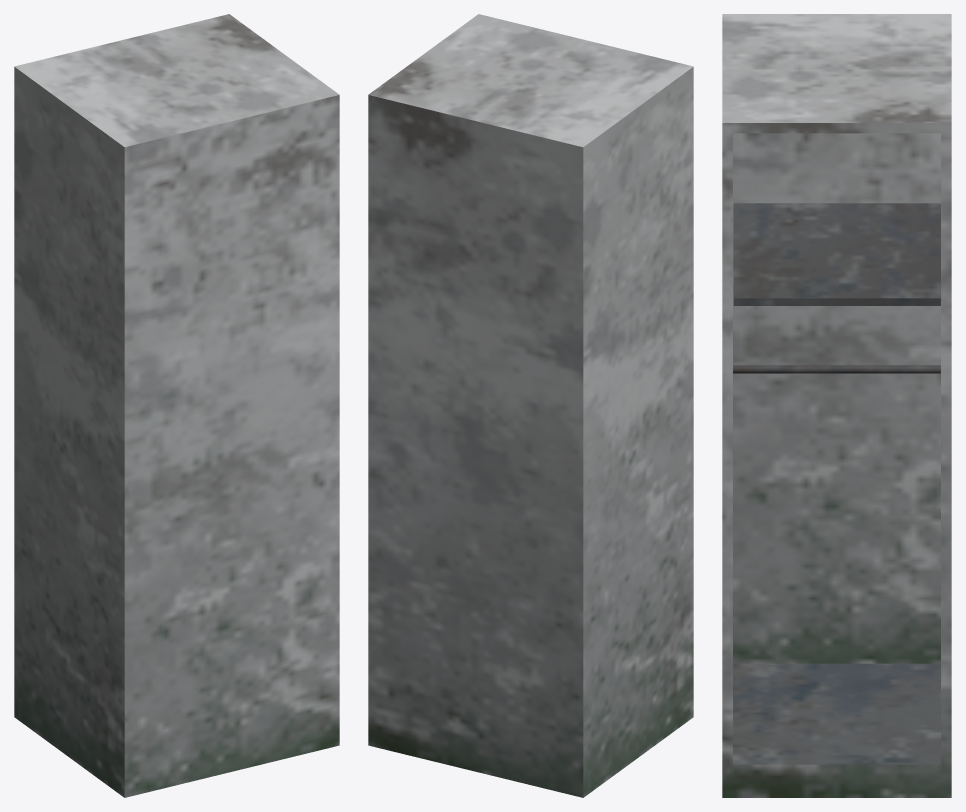
Rendered from Cupboard_SM.fbx.
3 views of the same model, side by side, from view 1: azimuth 30°, elevation 25°; view 2: azimuth 150°, elevation 25°; view 3: azimuth 270°, elevation 25° (orthographic). The views are drawn at different scales.
Visible parts, largest first — view 1: InsideCupbiard; view 2: InsideCupbiard; view 3: InsideCupbiard.
Boxes of the visible parts, box(x1,y1,x2,y2) form: InsideCupbiard: box(14, 14, 339, 797); InsideCupbiard: box(368, 14, 693, 797); InsideCupbiard: box(722, 14, 951, 797).
Bounding box in the file's own units: 82.4 × 238 × 73.29.
